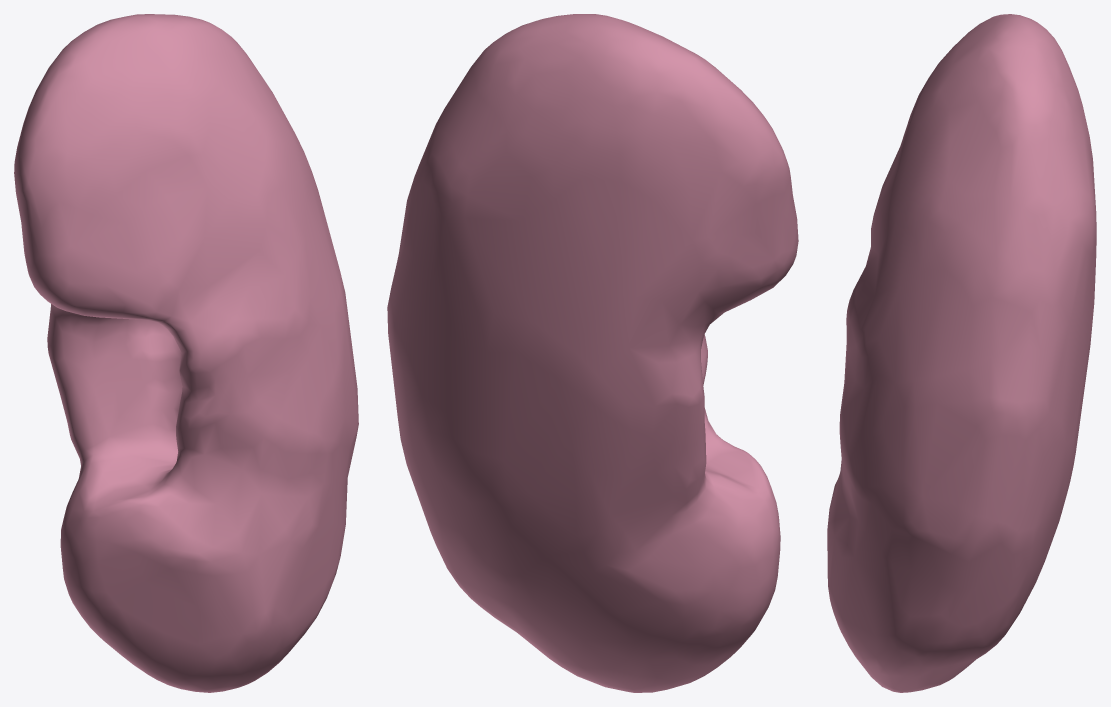
Rendered from rim_esquerdo.glb.
3 renders of one model, left to right at view 1: azimuth 30°, elevation 25°; view 2: azimuth 150°, elevation 25°; view 3: azimuth 270°, elevation 25°, orthographic. The views are drawn at different scales.
Visible parts, largest first — view 1: rim_esquerdo; view 2: rim_esquerdo; view 3: rim_esquerdo.
Part boxes in pixels (x1,y1,x2,y2): rim_esquerdo: (14, 14, 358, 692); rim_esquerdo: (387, 14, 798, 692); rim_esquerdo: (827, 14, 1096, 692).
Size of the model in its own units: 0.0575 by 0.1059 by 0.0406.
